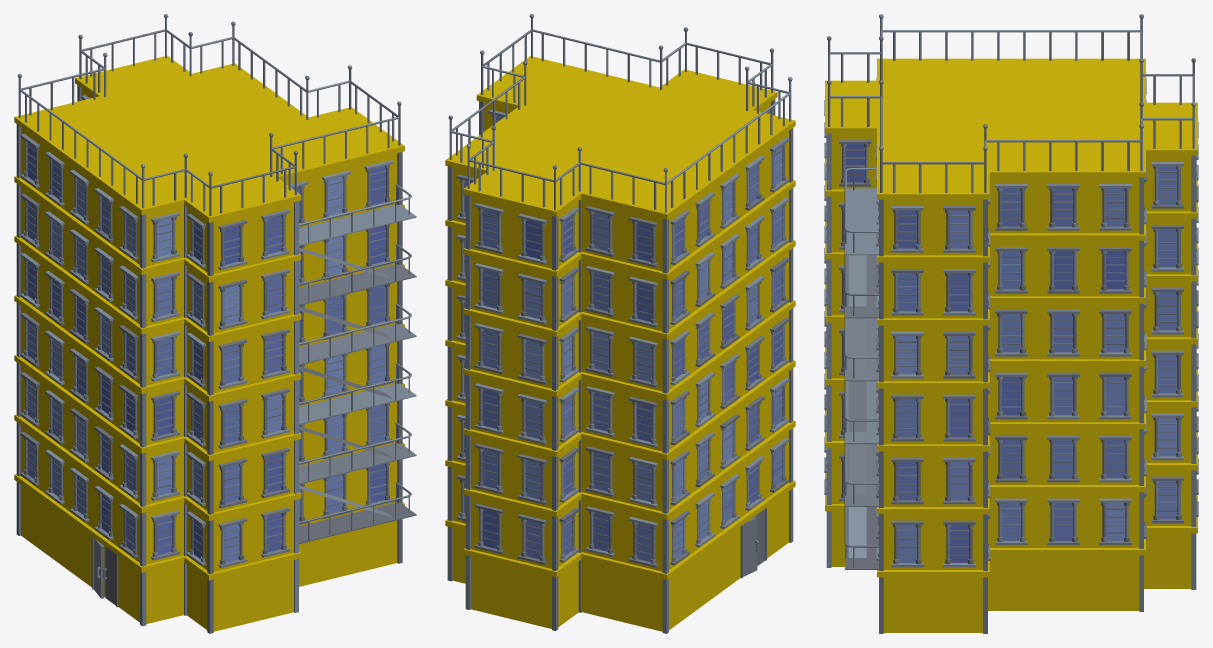
The model's file is Building Procedural.014.fbx.
3 renders of one model, left to right at view 1: azimuth 30°, elevation 25°; view 2: azimuth 150°, elevation 25°; view 3: azimuth 270°, elevation 25°, orthographic. The views are drawn at different scales.
Parts seen in each view (by area): view 1: Building Procedural.014; view 2: Building Procedural.014; view 3: Building Procedural.014.
Boxes of the visible parts, <box> form: Building Procedural.014: <box>14,14,416,633</box>; Building Procedural.014: <box>445,14,795,633</box>; Building Procedural.014: <box>824,14,1198,633</box>.
Bounding box in the file's own units: 1341 × 2210 × 1540.
